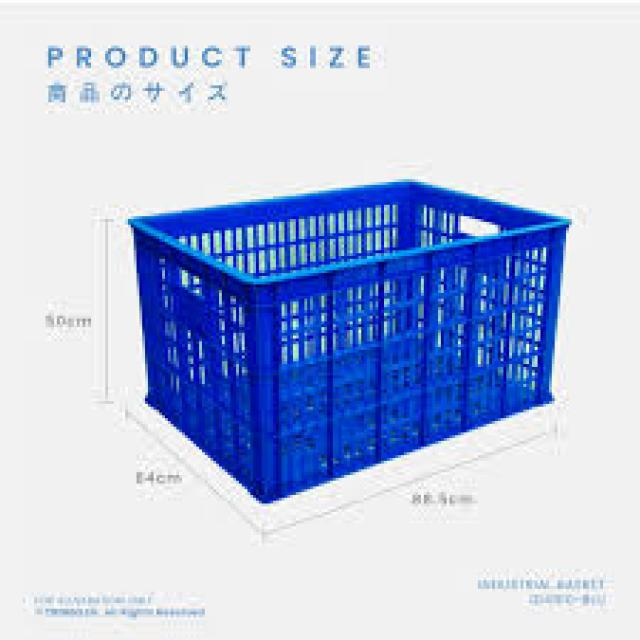basket: (130, 169, 594, 513)
